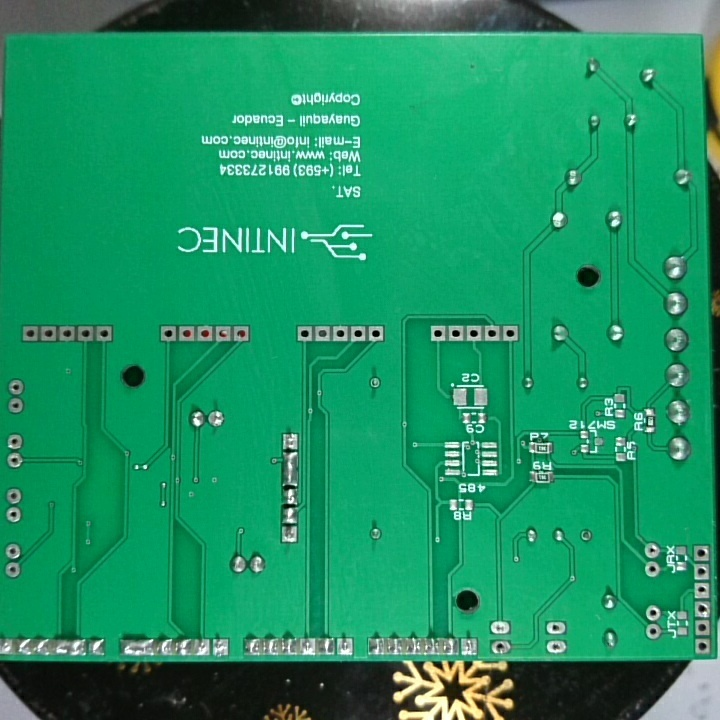F: (276, 524, 301, 549), (459, 635, 478, 661), (211, 635, 232, 658), (5, 559, 25, 583), (488, 619, 513, 638), (544, 619, 569, 638), (692, 635, 713, 657), (4, 503, 24, 526), (214, 323, 233, 347), (544, 638, 570, 655), (5, 485, 26, 506), (427, 323, 447, 345), (4, 451, 26, 471), (4, 541, 27, 560), (207, 408, 226, 431), (487, 640, 516, 655), (76, 322, 94, 346), (95, 323, 113, 347), (19, 324, 40, 344), (281, 431, 301, 452), (40, 324, 59, 346), (159, 323, 178, 345), (195, 323, 214, 345), (8, 376, 27, 398), (178, 323, 196, 346), (312, 323, 330, 346), (644, 558, 662, 581), (367, 324, 385, 346), (59, 324, 76, 347), (465, 322, 482, 345), (1, 635, 18, 658), (233, 324, 251, 345), (7, 396, 25, 417), (501, 323, 517, 346), (331, 324, 350, 343), (348, 325, 367, 344), (644, 603, 663, 622), (336, 634, 351, 658), (643, 542, 663, 560), (692, 543, 710, 563), (366, 372, 384, 392), (6, 432, 24, 452), (447, 323, 464, 344), (484, 323, 501, 344), (299, 636, 316, 657), (579, 525, 596, 546), (695, 600, 713, 619), (644, 620, 664, 637), (694, 617, 711, 637), (296, 324, 313, 343), (193, 638, 210, 655), (694, 564, 710, 581), (695, 581, 709, 600)
P: (280, 449, 301, 487), (50, 638, 87, 658), (120, 638, 157, 657)
